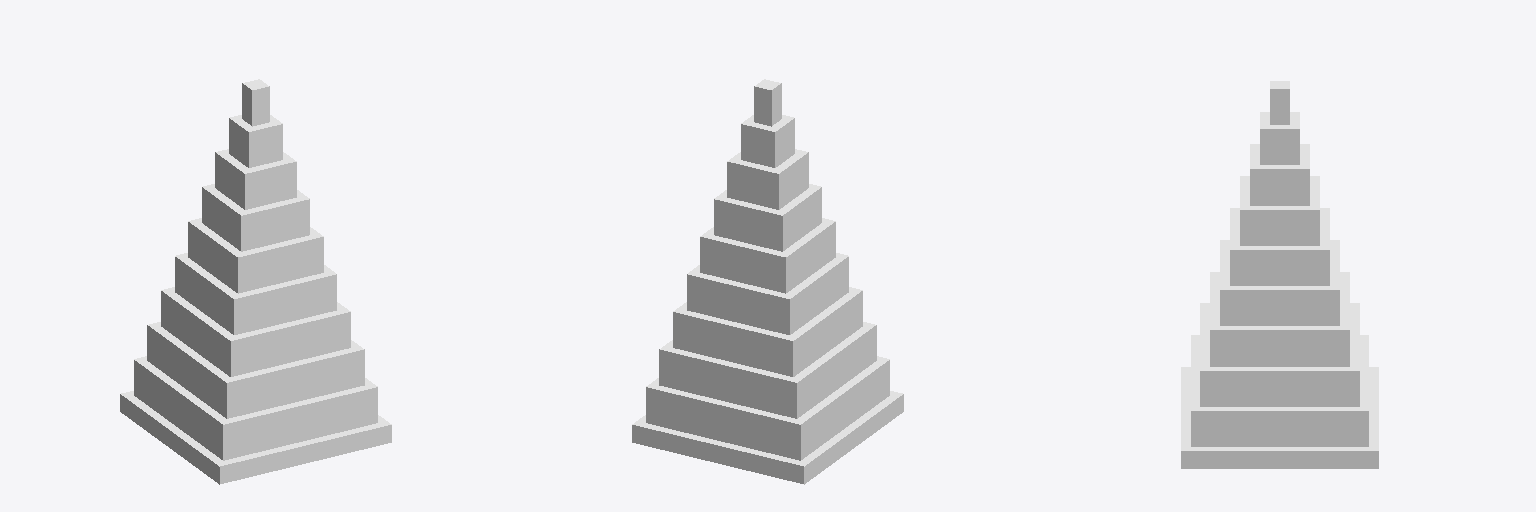
Rendered from terrainTreeDeco-0.obj.
3 renders of one model, left to right at view 1: azimuth 30°, elevation 25°; view 2: azimuth 150°, elevation 25°; view 3: azimuth 270°, elevation 25°, orthographic.
Parts seen in each view (by area): view 1: object 1; view 2: object 1; view 3: object 1.
Part boxes in pixels (x1,y1,x2,y2): object 1: (120, 79, 391, 484); object 1: (632, 79, 903, 484); object 1: (1181, 81, 1378, 468).
Size of the model in its own units: 2 by 3.8 by 2.